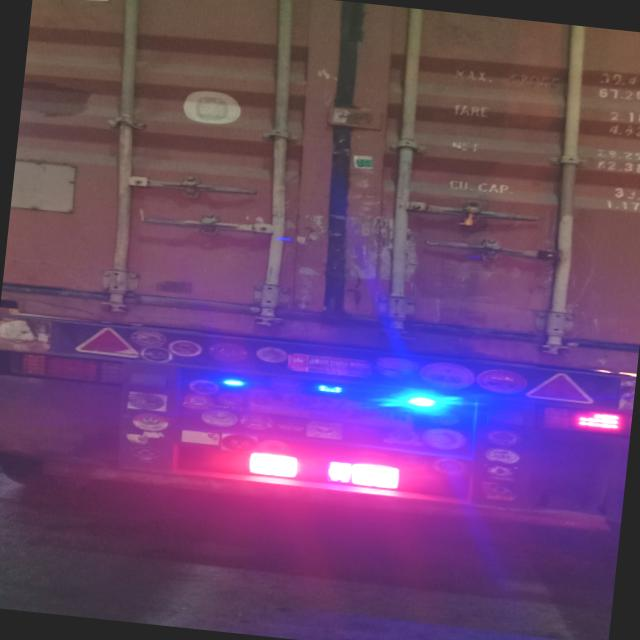seal: (463, 203, 480, 226)
